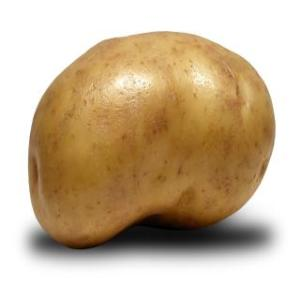potato: (20, 20, 278, 256)
